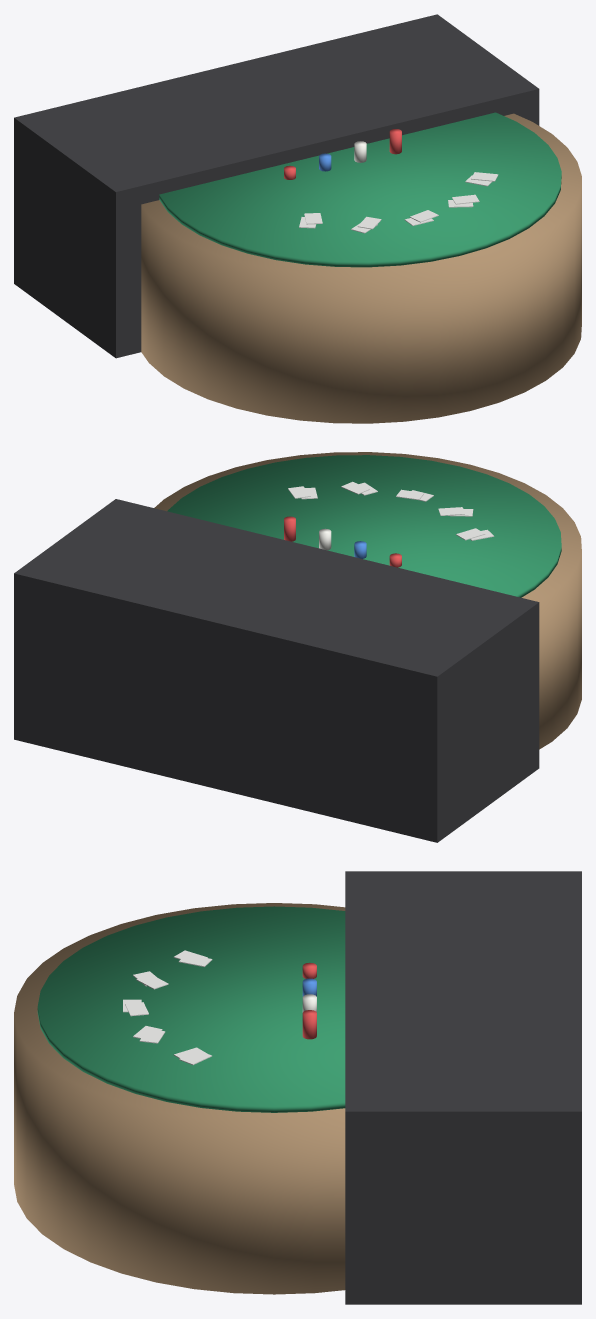
The model's file is blackjack_table.glb.
3 renders of one model, top to bottom at view 1: azimuth 30°, elevation 25°; view 2: azimuth 150°, elevation 25°; view 3: azimuth 270°, elevation 25°, orthographic. The views are drawn at different scales.
Parts seen in each view (by area): view 1: blackjack_table; view 2: blackjack_table; view 3: blackjack_table.
Part boxes in pixels (x1,y1,x2,y2): blackjack_table: (14, 14, 581, 423); blackjack_table: (14, 452, 581, 842); blackjack_table: (14, 871, 581, 1304).
Bounding box in the file's own units: 2.4 × 0.94 × 2.4.
